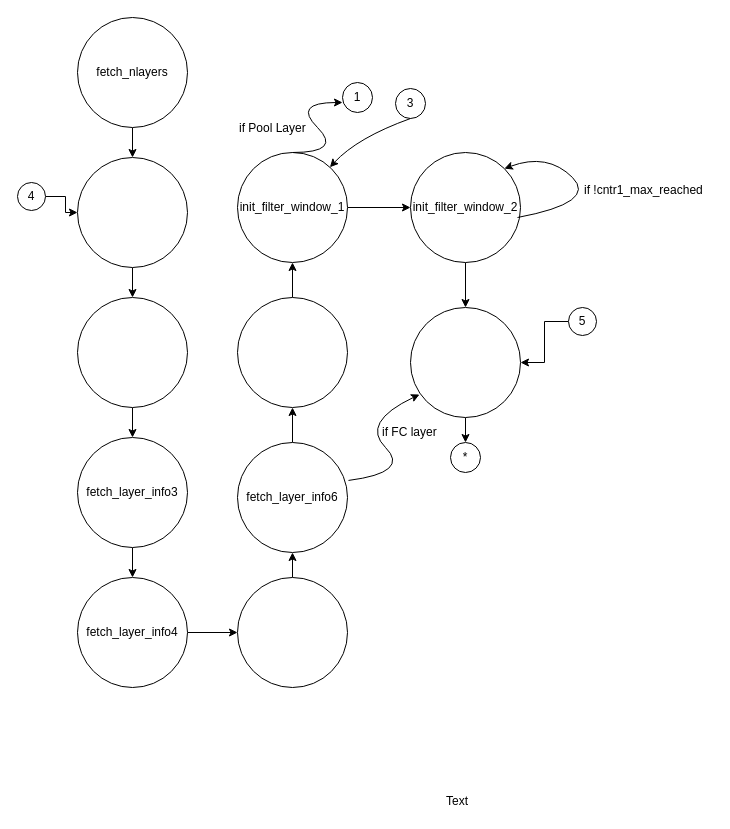
The diagram is 730 pixels wide and 829 high, and some of its shapes have lost their labels. Each missing label, with the centre of its shape:
"fetch_filter_bias" belongs at [465,362].
"fetch_layer_info1" belongs at [132,212].
"fetch_layer_info2" belongs at [132,352].
"fetch_layer_info5" belongs at [292,632].
"fetch_layer_info7" belongs at [292,352].
